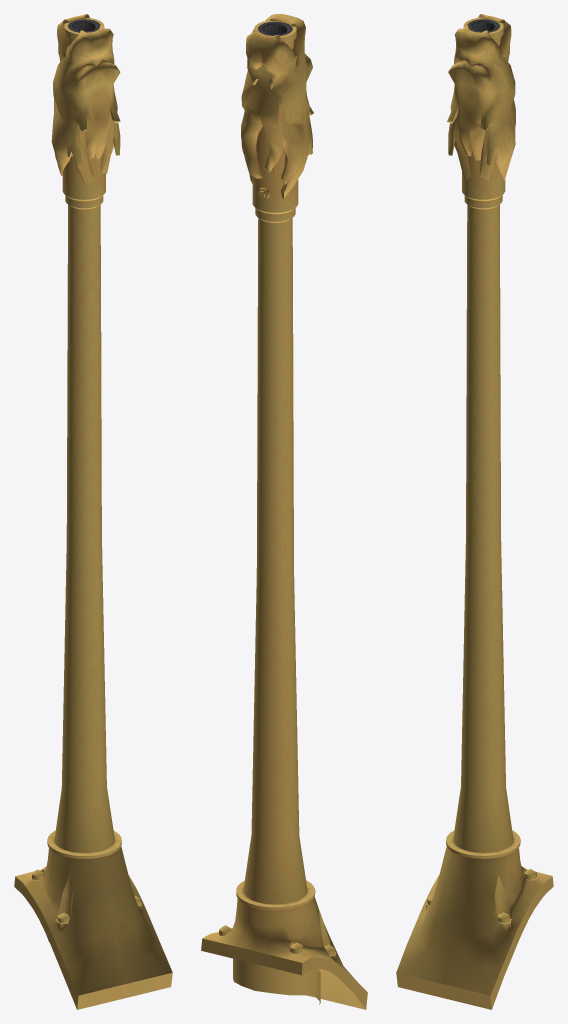
The model's file is Gun_01.glb.
3 renders of one model, left to right at view 1: azimuth 30°, elevation 25°; view 2: azimuth 150°, elevation 25°; view 3: azimuth 330°, elevation 25°, orthographic. The views are drawn at different scales.
Visible parts, largest first — view 1: set_0_group_0; view 2: set_0_group_0; view 3: set_0_group_0.
Boxes of the visible parts, bbox=[...] form: set_0_group_0: bbox=[14, 14, 172, 1009]; set_0_group_0: bbox=[201, 14, 367, 1009]; set_0_group_0: bbox=[396, 14, 553, 1009].
Size of the model in its own units: 0.4703 by 4.45 by 0.5407.
Materials: 1 (1 with a texture image).
